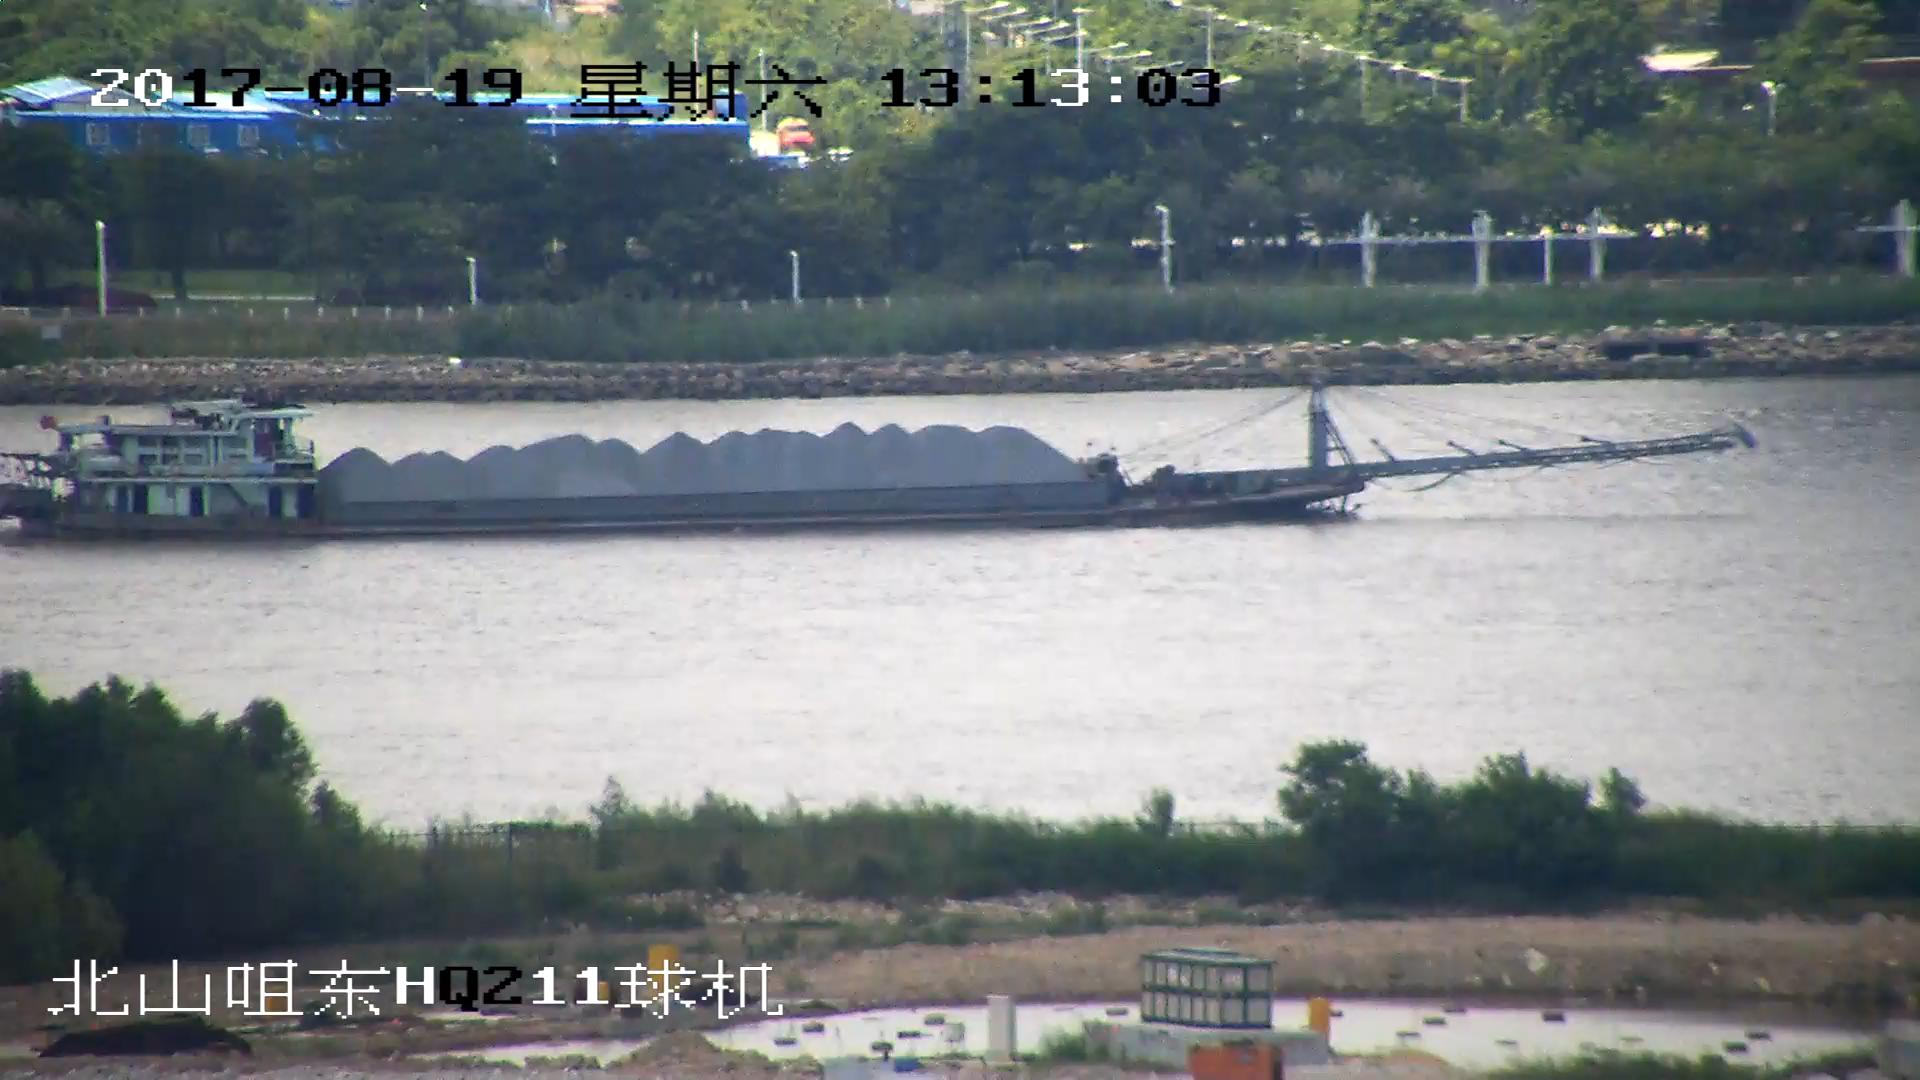ore carrier: (1, 359, 1756, 537)
